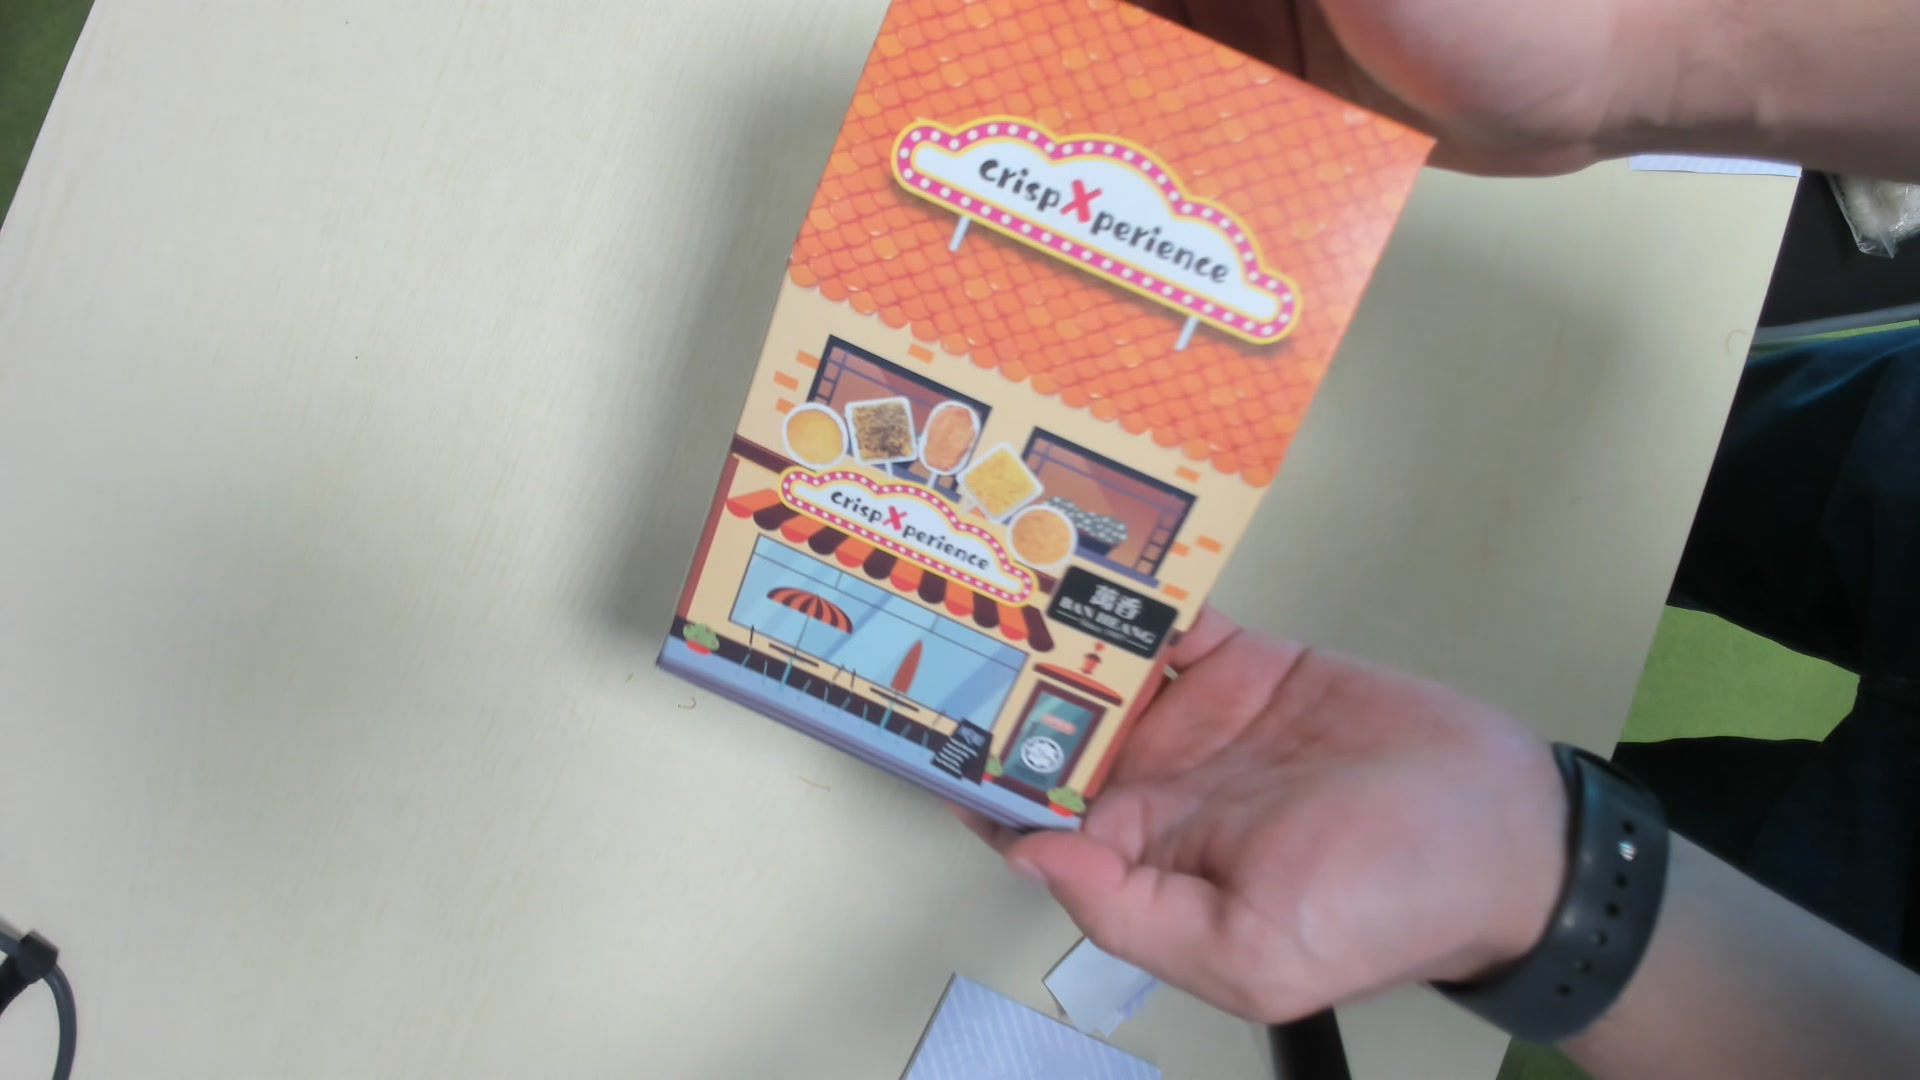SweetsChocolatesOthers_0-99g_Halal_Nonhealthy: (642, 11, 1429, 841)
